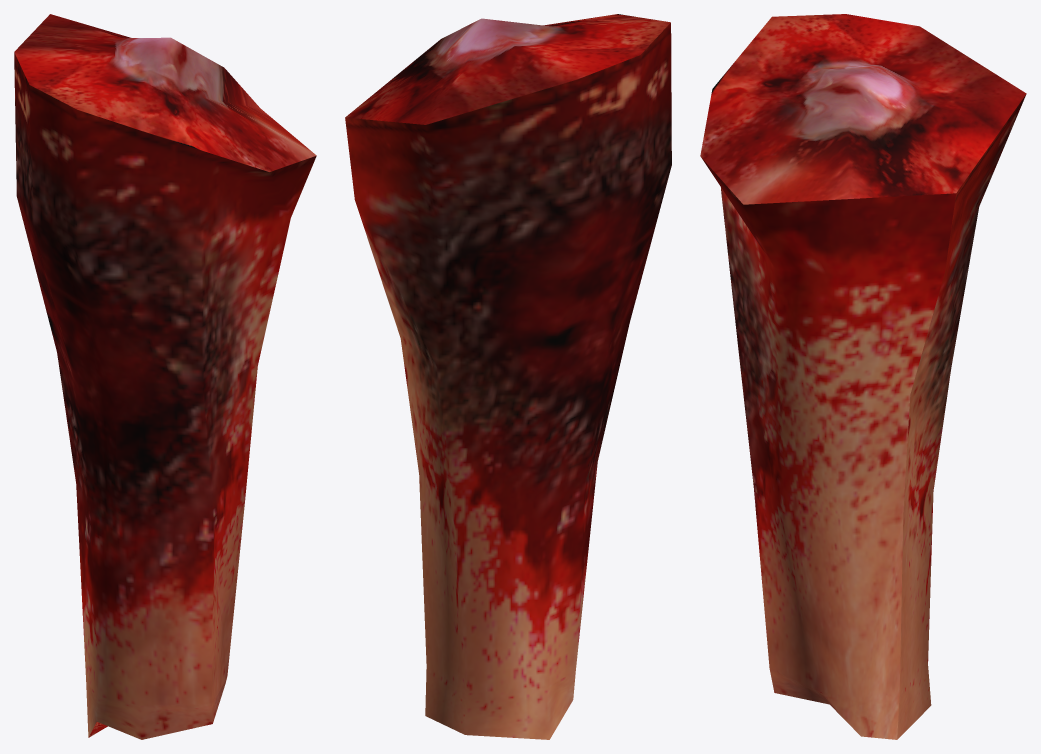
The model's file is female_rt_upleg.fbx.
3 renders of one model, left to right at view 1: azimuth 30°, elevation 25°; view 2: azimuth 150°, elevation 25°; view 3: azimuth 270°, elevation 25°, orthographic. The views are drawn at different scales.
Visible parts, largest first — view 1: fm_rt_upleg_gib; view 2: fm_rt_upleg_gib; view 3: fm_rt_upleg_gib.
Part boxes in pixels (left/top/right/bottom): fm_rt_upleg_gib: left=14, top=14, right=316, bottom=739; fm_rt_upleg_gib: left=345, top=14, right=671, bottom=739; fm_rt_upleg_gib: left=700, top=14, right=1026, bottom=739.
Size of the model in its own units: 0.185 by 0.5089 by 0.2315.
